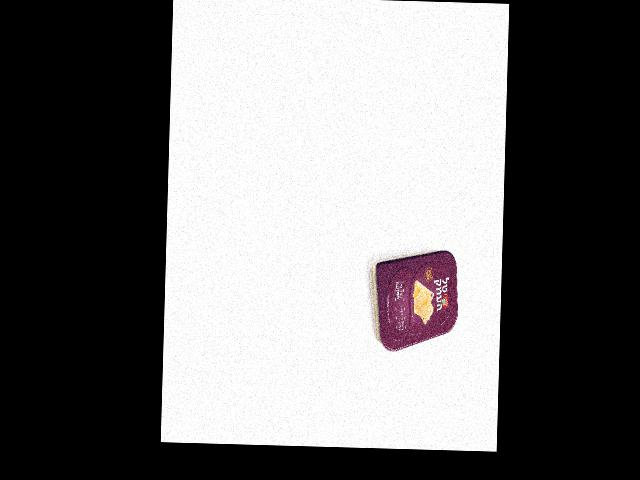cheese: (367, 248, 460, 353)
